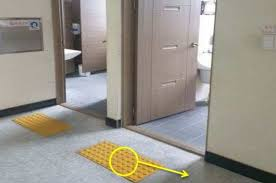guide_blocks: (81, 140, 162, 179), (17, 113, 71, 137)
